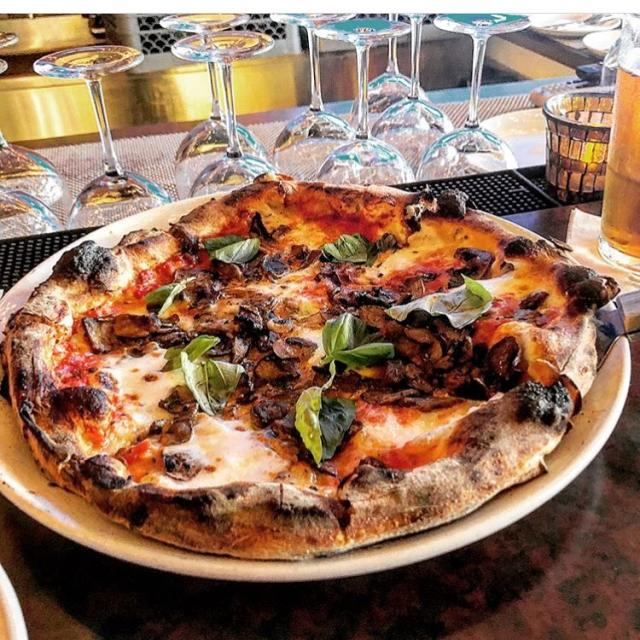basil: (382, 272, 508, 330), (182, 333, 245, 419), (295, 360, 336, 470), (319, 312, 395, 370), (318, 230, 402, 267), (140, 274, 198, 319), (319, 396, 356, 464), (196, 230, 264, 266), (161, 343, 185, 378)
mushrooms: (379, 321, 479, 374), (456, 329, 526, 399), (356, 369, 468, 412), (322, 268, 426, 312), (231, 293, 295, 363), (107, 308, 190, 351), (238, 355, 302, 406), (442, 243, 492, 291), (190, 260, 242, 304), (261, 244, 318, 281), (249, 394, 294, 437), (157, 378, 199, 418), (161, 448, 208, 483), (241, 209, 287, 242), (271, 330, 317, 362), (150, 412, 194, 443), (196, 314, 235, 336)
pizza: (2, 175, 618, 559)
